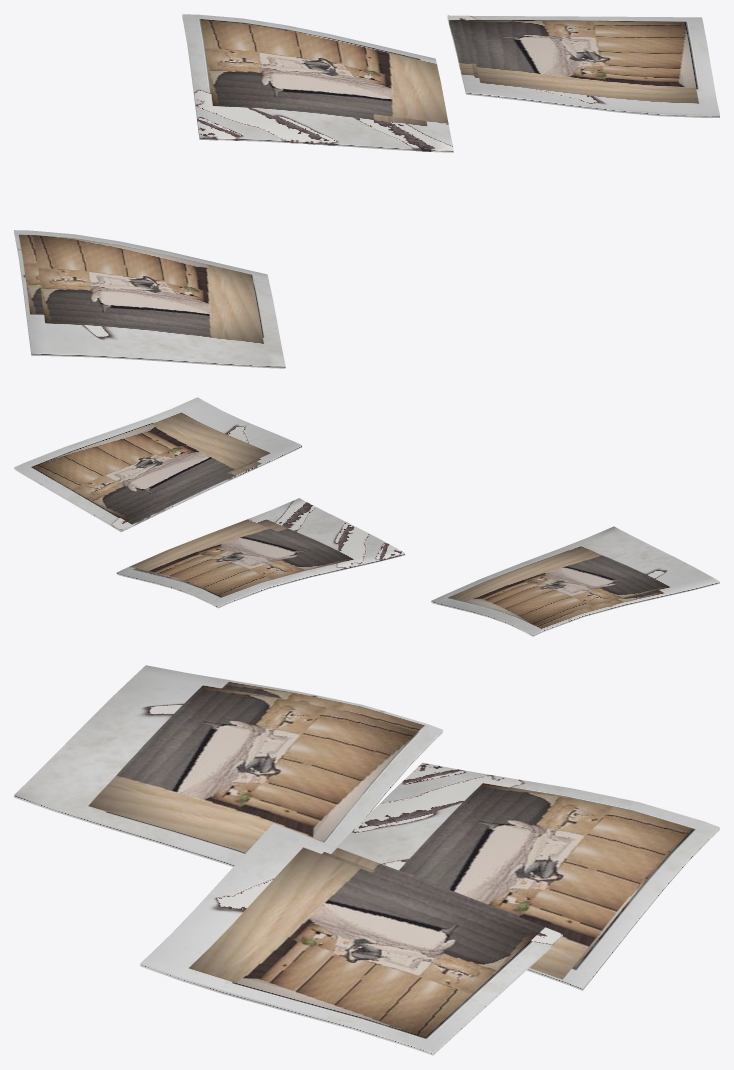
Rendered from polaroids.glb.
3 views of the same model, one above another, from view 1: azimuth 30°, elevation 25°; view 2: azimuth 150°, elevation 25°; view 3: azimuth 270°, elevation 25° (orthographic). The views are drawn at different scales.
Parts seen in each view (by area): view 1: polaroids; view 2: polaroids; view 3: polaroids.
Part boxes in pixels (bbox=[...]): polaroids: bbox=[14, 14, 719, 368]; polaroids: bbox=[14, 397, 719, 636]; polaroids: bbox=[14, 665, 719, 1055].
Size of the model in its own units: 0.1781 by 0.0324 by 0.1205.
Materials: 1 (1 with a texture image).
